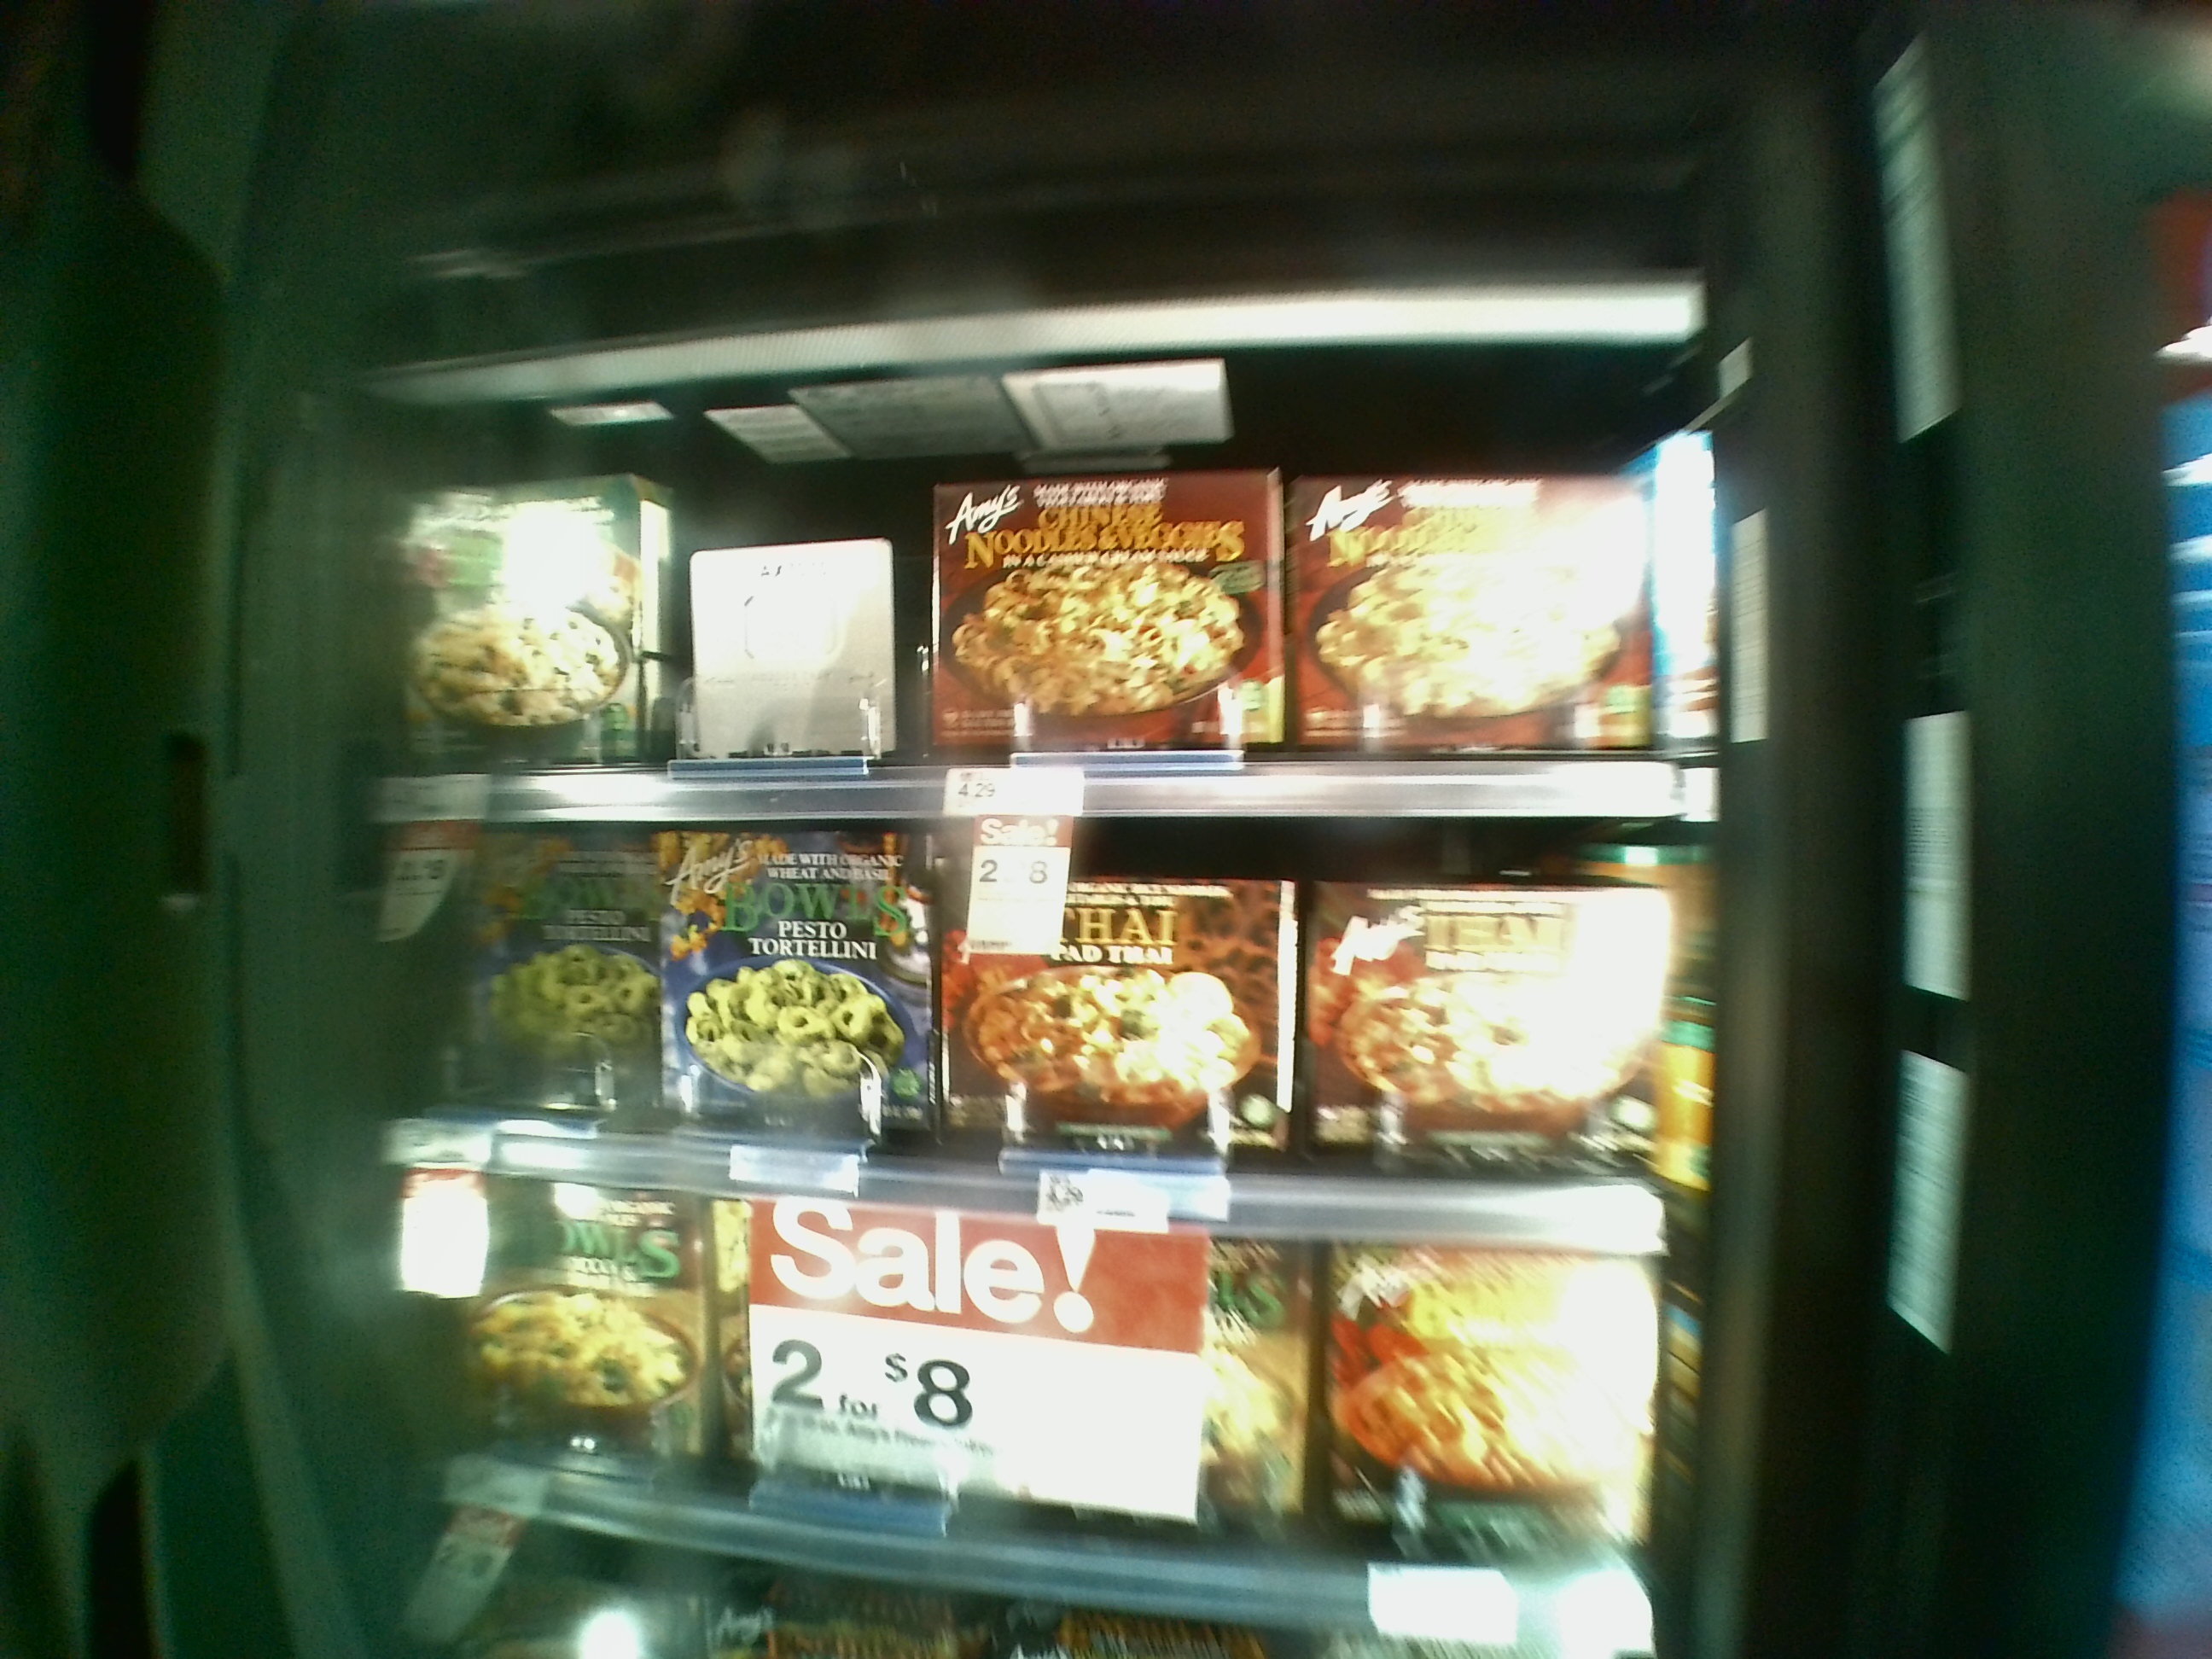shelf: (347, 357, 1721, 819), (397, 1183, 1684, 1600), (357, 810, 1705, 1206)
